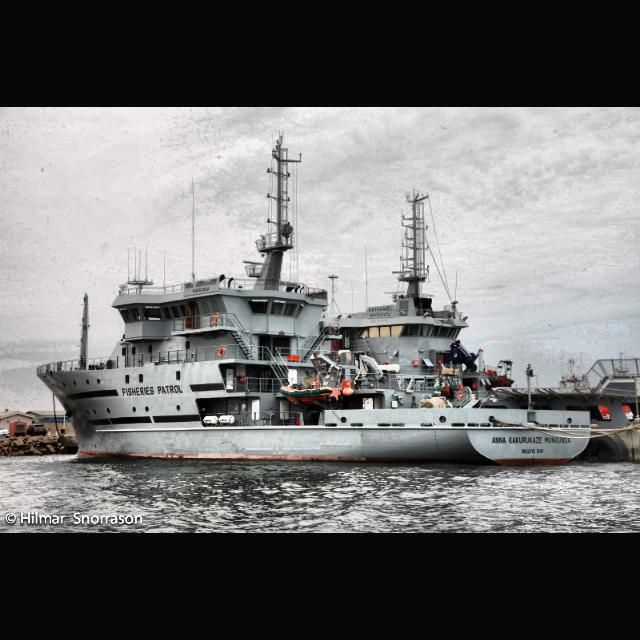patrol_vessel: (36, 136, 592, 470)
